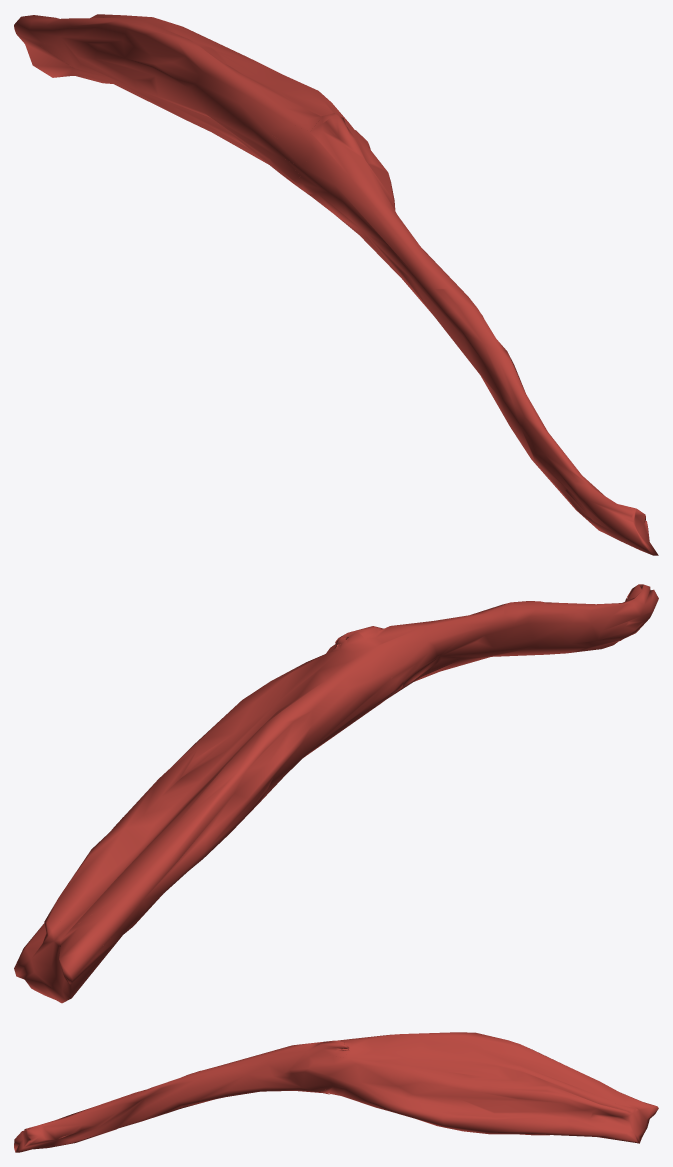
Rendered from musculos-abductor-hallucis-l.glb.
3 views of the same model, one above another, from view 1: azimuth 30°, elevation 25°; view 2: azimuth 150°, elevation 25°; view 3: azimuth 270°, elevation 25° (orthographic). The views are drawn at different scales.
Visible parts, largest first — view 1: Abductor hallucis.l; view 2: Abductor hallucis.l; view 3: Abductor hallucis.l.
Part boxes in pixels (bbox=[...]): Abductor hallucis.l: bbox=[14, 14, 658, 555]; Abductor hallucis.l: bbox=[14, 584, 658, 1003]; Abductor hallucis.l: bbox=[14, 1032, 658, 1152].
Bounding box in the file's own units: 0.0202 × 0.0269 × 0.1448.
